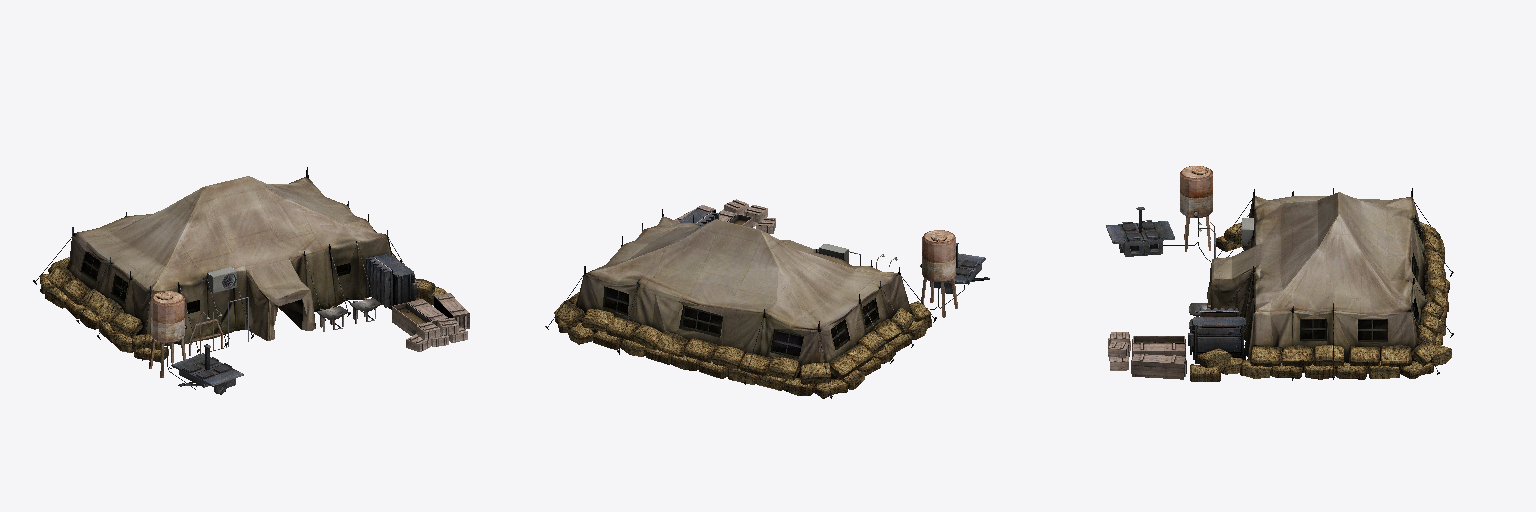
3 views of the same model, side by side, from view 1: azimuth 30°, elevation 25°; view 2: azimuth 150°, elevation 25°; view 3: azimuth 270°, elevation 25° (orthographic).
Parts seen in each view (by area): view 1: Tent; view 2: Tent; view 3: Tent.
Part boxes in pixels (x1,y1,x2,y2): Tent: (33, 167, 469, 394); Tent: (545, 199, 989, 398); Tent: (1106, 166, 1453, 381).
Size of the model in its own units: 50.53 by 16.65 by 49.89.
Materials: 1 (1 with a texture image).